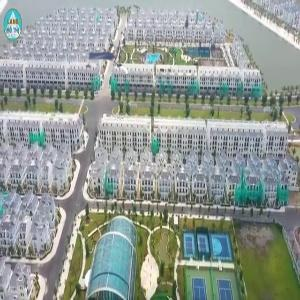drone: (80, 37, 128, 85)
